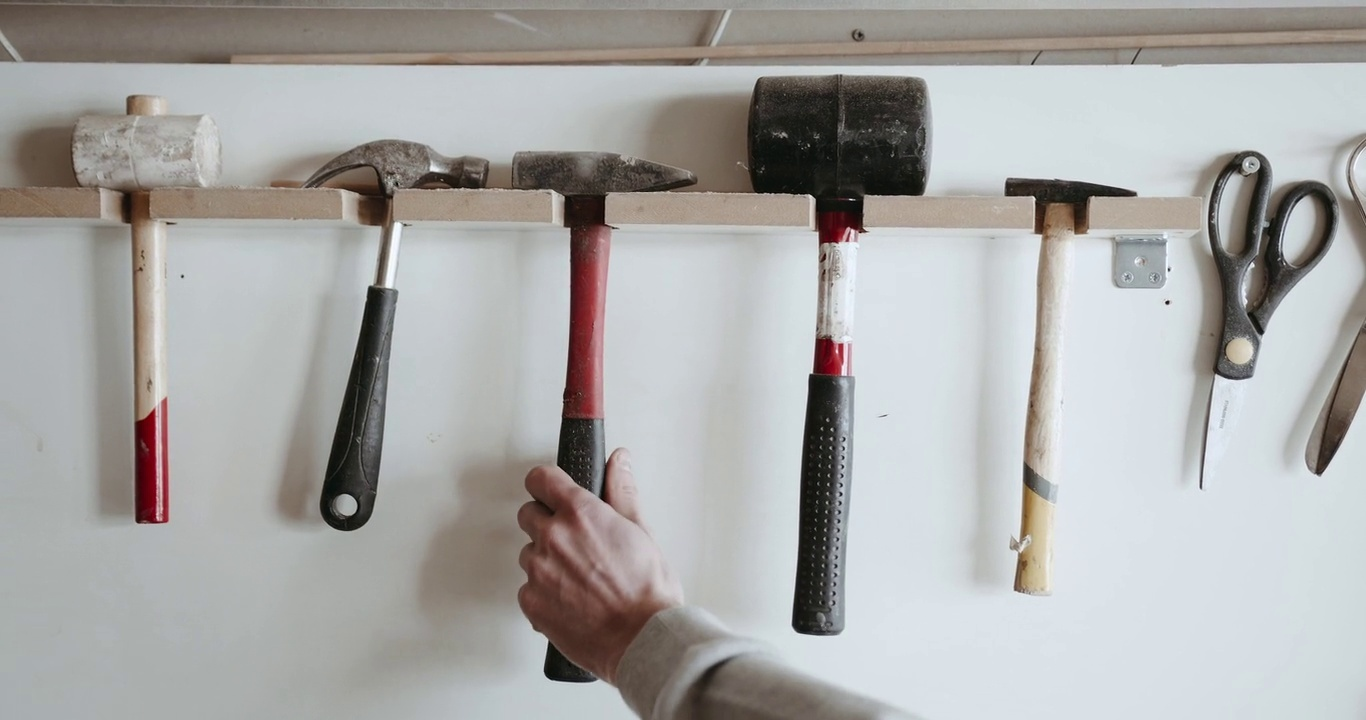hammer: (745, 71, 936, 643), (507, 148, 703, 689), (293, 136, 490, 540), (66, 88, 223, 534), (998, 172, 1139, 605)
